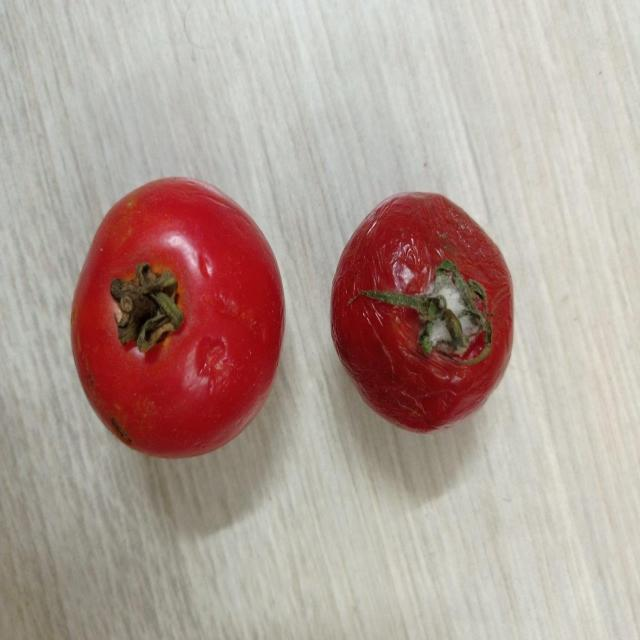overripe: (68, 174, 288, 460), (329, 189, 520, 433)
